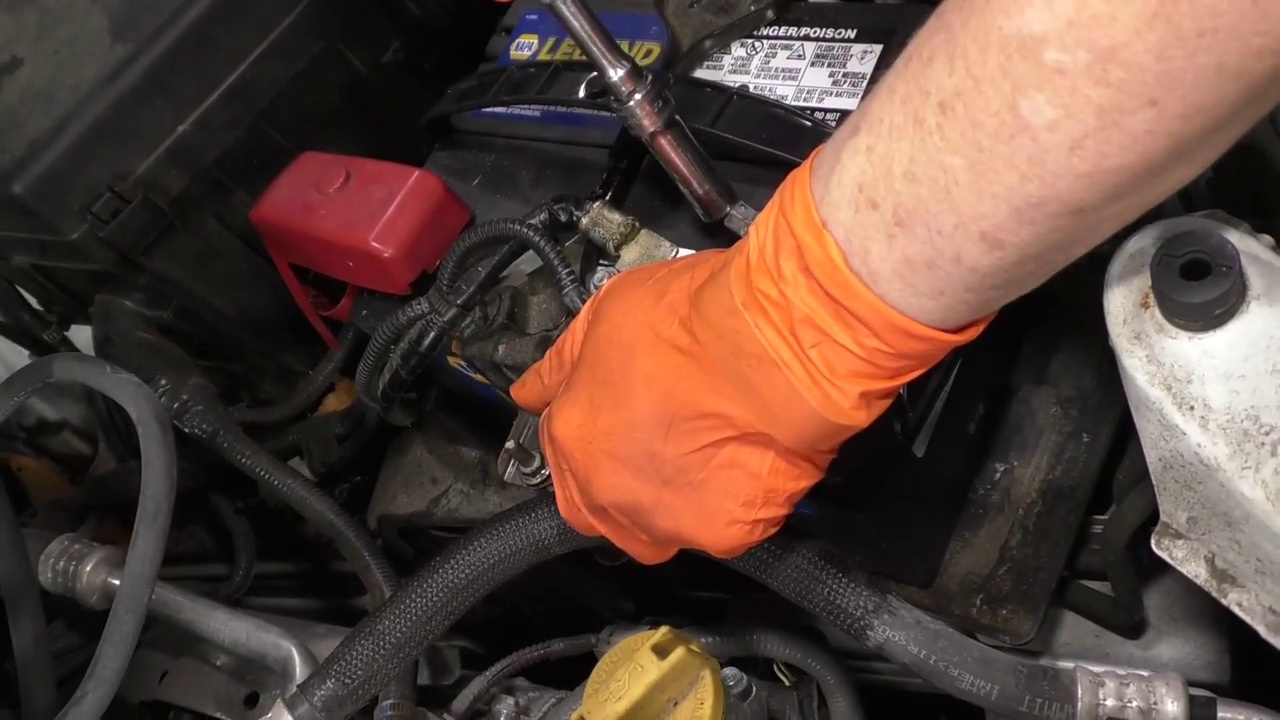battery: (346, 5, 894, 449)
pos_connected: (230, 148, 493, 360)
